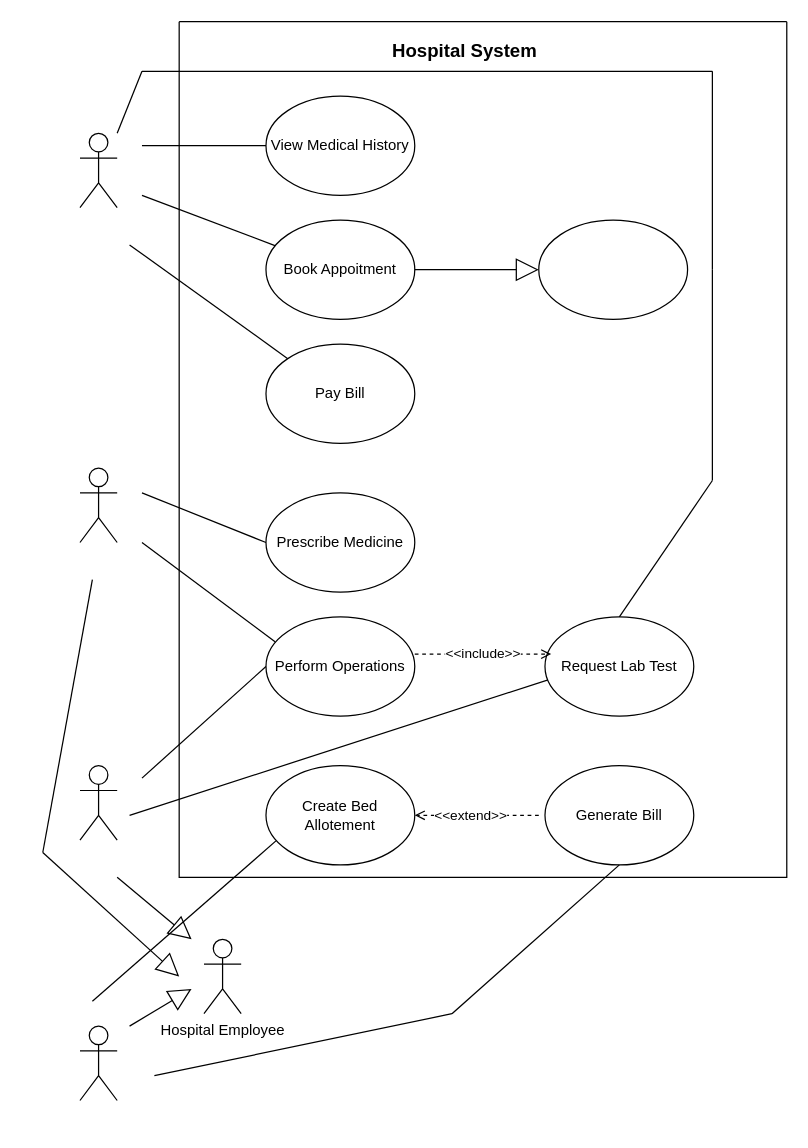
Some shapes in this 808 by 1148 pixel diagram are drawn without their labels. The shapes that lost their labels are listed below. From the top down, each one's box as (x1, y1, x2, y2) in pixels, then its label:
(79, 132, 117, 208): Patient
(538, 219, 688, 319): Manage Appoitment
(79, 467, 117, 542): Doctors
(79, 764, 117, 840): Nurse
(79, 1025, 117, 1100): Receptionist
